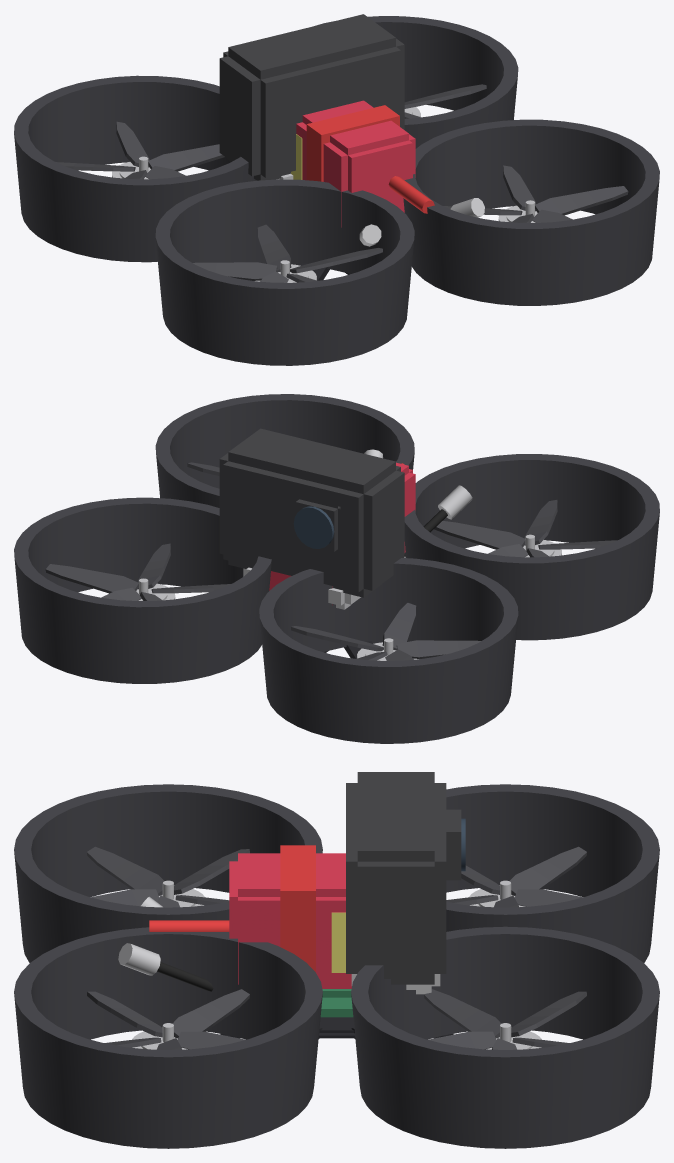
The model's file is cinewhoop35.glb.
3 views of the same model, one above another, from view 1: azimuth 30°, elevation 25°; view 2: azimuth 150°, elevation 25°; view 3: azimuth 270°, elevation 25° (orthographic). The views are drawn at different scales.
Parts seen in each view (by area): view 1: body, prop_RL, prop_RR, prop_FL, prop_FR; view 2: body, prop_FR, prop_RL, prop_FL; view 3: body, prop_RR, prop_FR, prop_RL, prop_FL.
Boxes of the visible parts, x1=… form: body: x1=14, y1=14, x2=659, y2=365; prop_RL: x1=193, y1=224, x2=382, y2=282; prop_RR: x1=443, y1=165, x2=628, y2=222; prop_FL: x1=56, y1=121, x2=224, y2=179; prop_FR: x1=404, y1=84, x2=486, y2=118; body: x1=14, y1=394, x2=659, y2=743; prop_FR: x1=45, y1=543, x2=230, y2=600; prop_RL: x1=434, y1=500, x2=616, y2=557; prop_FL: x1=291, y1=603, x2=480, y2=660; body: x1=14, y1=772, x2=659, y2=1148; prop_RR: x1=87, y1=989, x2=249, y2=1049; prop_FR: x1=424, y1=989, x2=586, y2=1049; prop_RL: x1=87, y1=846, x2=249, y2=907; prop_FL: x1=446, y1=846, x2=586, y2=907.
Size of the model in its own units: 0.2185 by 0.0813 by 0.2185.
